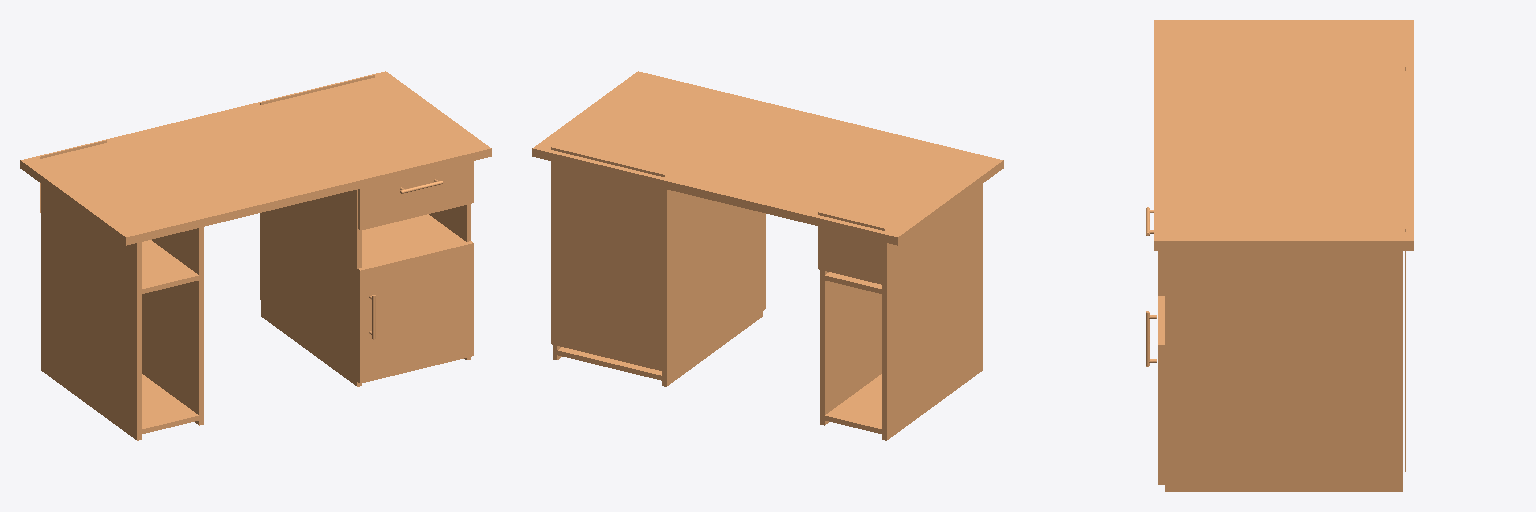
robot.urdf — computer_desk:
<robot
  name="computer_desk">
  <link
    name="computer_desk">
    <inertial>
      <origin
        xyz="0.063283 0.3372 -0.26073"
        rpy="0 0 0" />
      <mass
        value="92.603" />
      <inertia
        ixx="10.295084339354"
        ixy="-0.471908124522655"
        ixz="-0.781366729296928"
        iyy="25.4047882274579"
        iyz="-0.167463554135723"
        izz="22.7648262056126" />
    </inertial>
    <visual>
      <origin
        xyz="0 0 0"
        rpy="0 0 0" />
      <geometry>
        <mesh
          filename="package://computer_desk/meshes/computer_desk.dae" />
      </geometry>
      <material
        name="">
        <color
          rgba="0.98824 0.73725 0.51765 1" />
      </material>
    </visual>
    <collision>
      <origin
        xyz="0 0 0"
        rpy="0 0 0" />
      <geometry>
        <mesh
          filename="package://computer_desk/meshes/computer_desk.dae" />
      </geometry>
    </collision>
  </link>
</robot>

--- Facts derived from the render (not from the file) ---
The picture shows the robot from 3 angles, left to right: view 1: azimuth 30°, elevation 25°; view 2: azimuth 150°, elevation 25°; view 3: azimuth 270°, elevation 25°; orthographic projection.
Robot: computer_desk — 1 links, 0 joints (none); root link computer_desk; default pose: all joints at 0.
Visible links, largest first — view 1: computer_desk; view 2: computer_desk; view 3: computer_desk.
Boxes of the visible links, x1,y1,x2,y2 form: computer_desk: [20, 71, 491, 440]; computer_desk: [532, 71, 1003, 440]; computer_desk: [1146, 20, 1413, 491].
Bounding box of the posed robot: 1.4 × 0.7212 × 0.7793 m (x, y, z).
1 mesh visuals loaded from 1 distinct referenced files (1 Collada DAE).